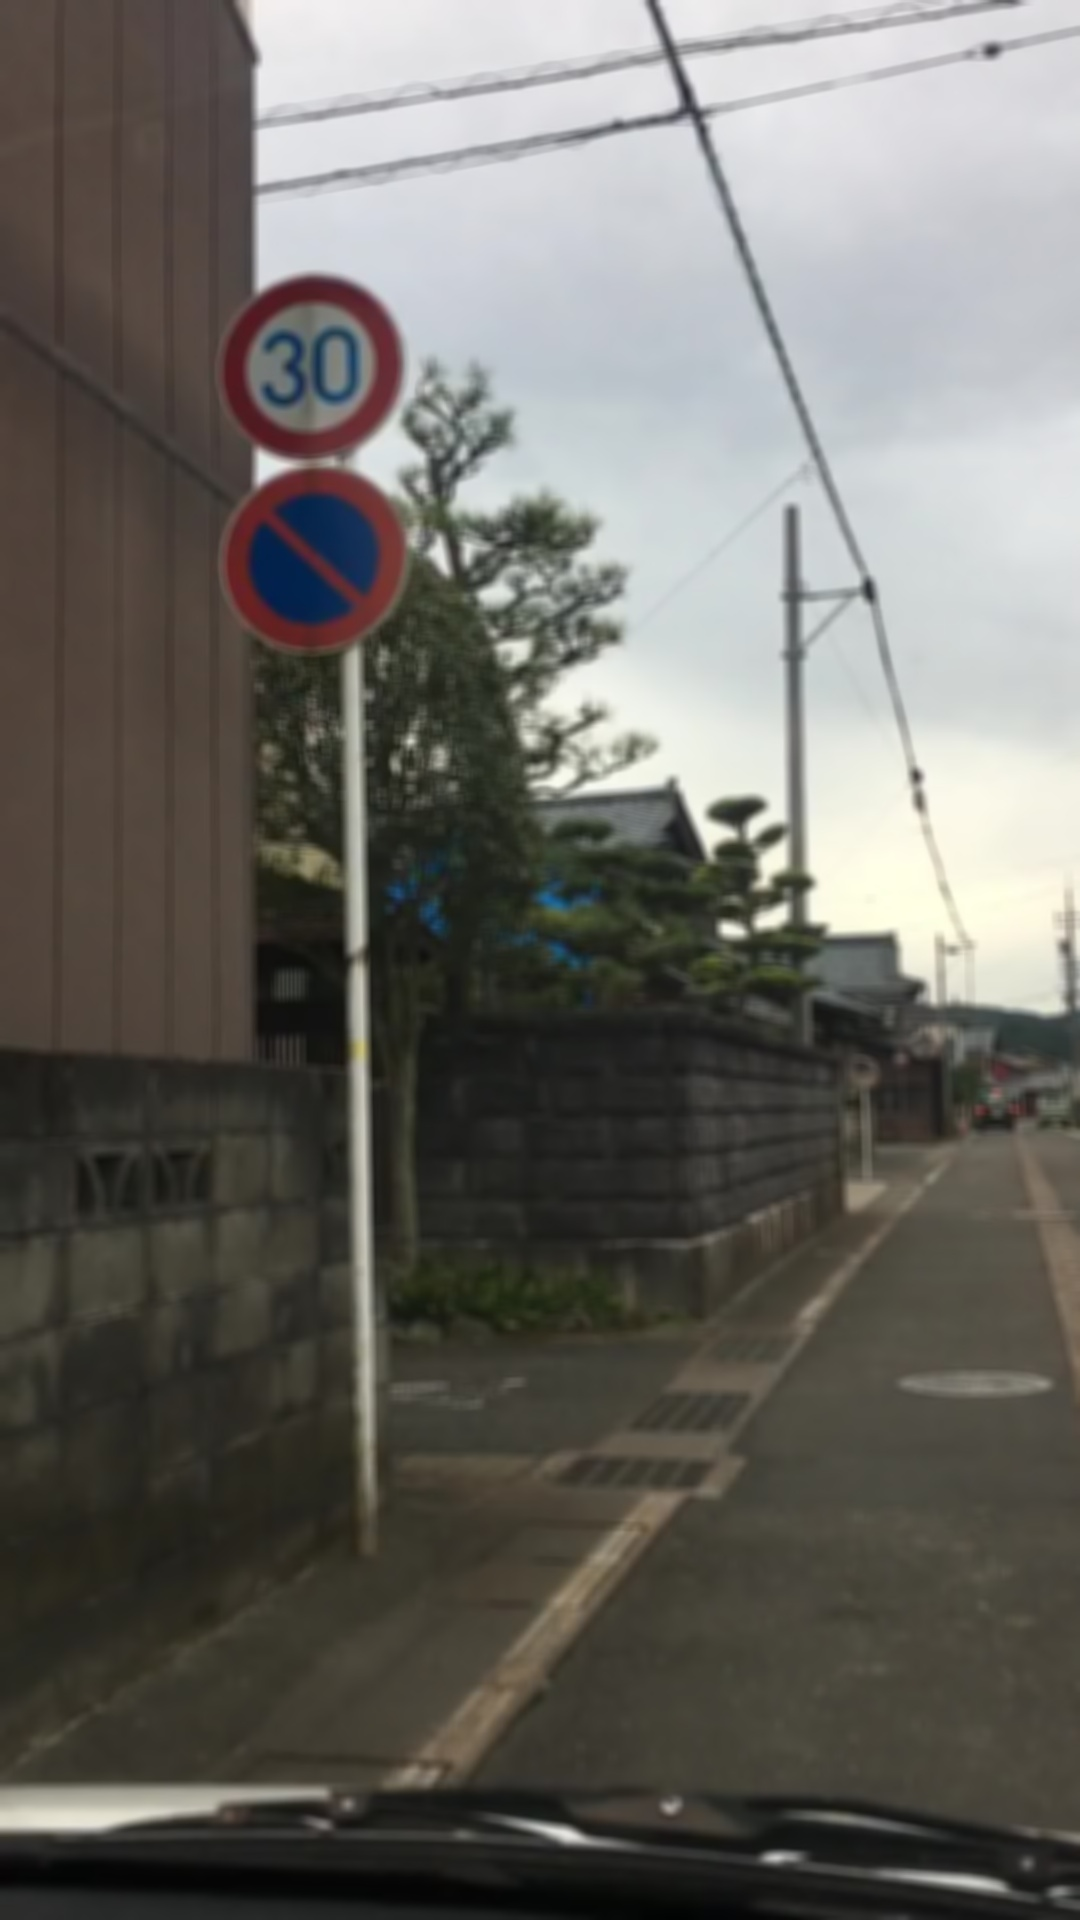Prohibition_sign: (225, 460, 406, 634)
Speed_sign: (222, 262, 414, 468)
